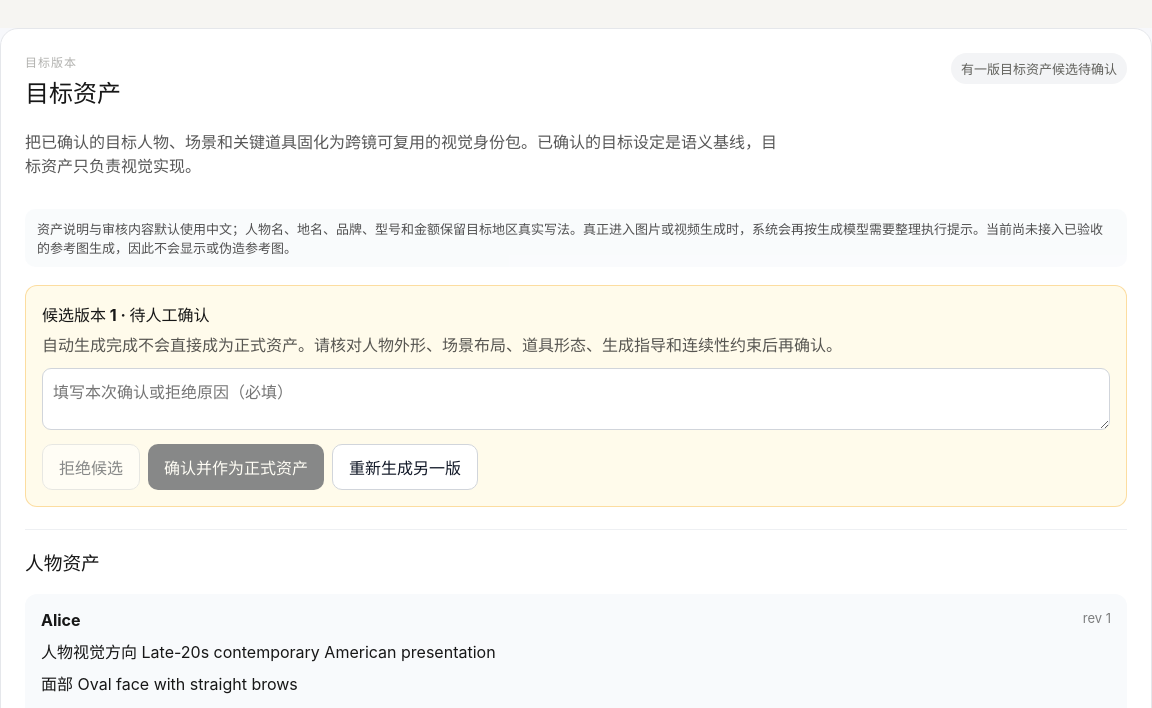
TargetAssetsWorkspace › accepts a candidate only after an explicit reason and uses optimistic review fields
The width and height of the screenshot is (1152, 708).
Type "Looks consistent across character, scene and prop identity" into the text box with placeholder "填写本次确认或拒绝原因（必填）" at (576, 399), box [42, 368, 1110, 430]
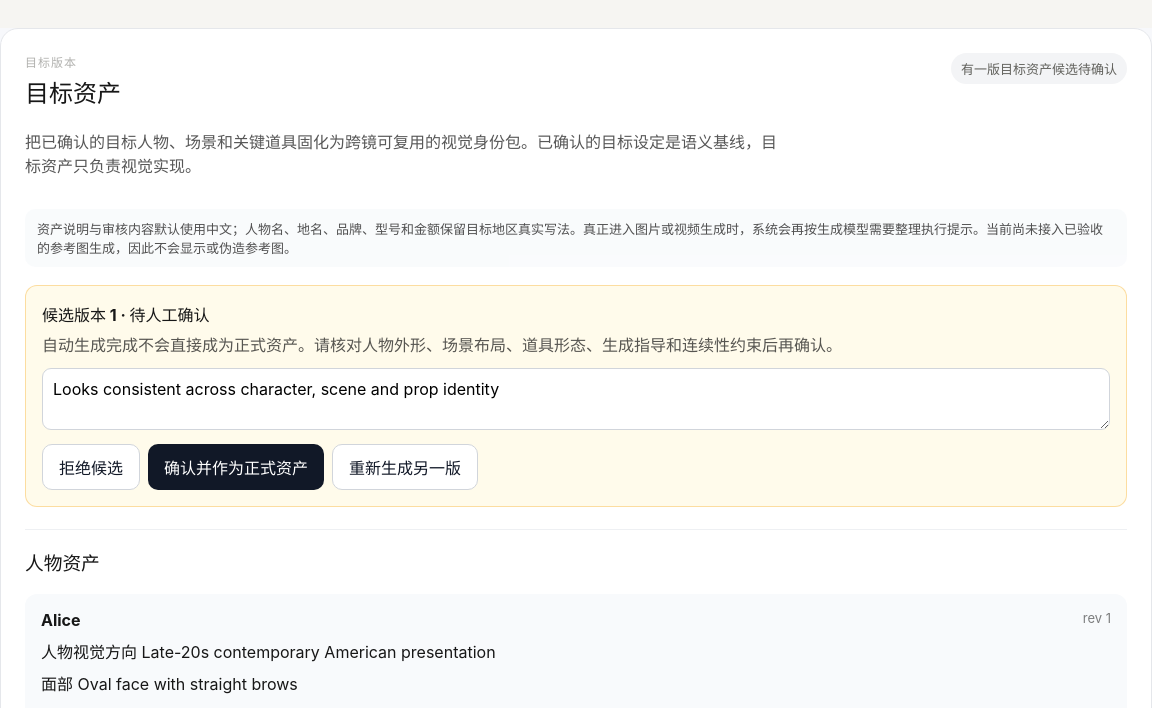
Click the button "确认并作为正式资产" at (236, 467), box [148, 444, 324, 490]
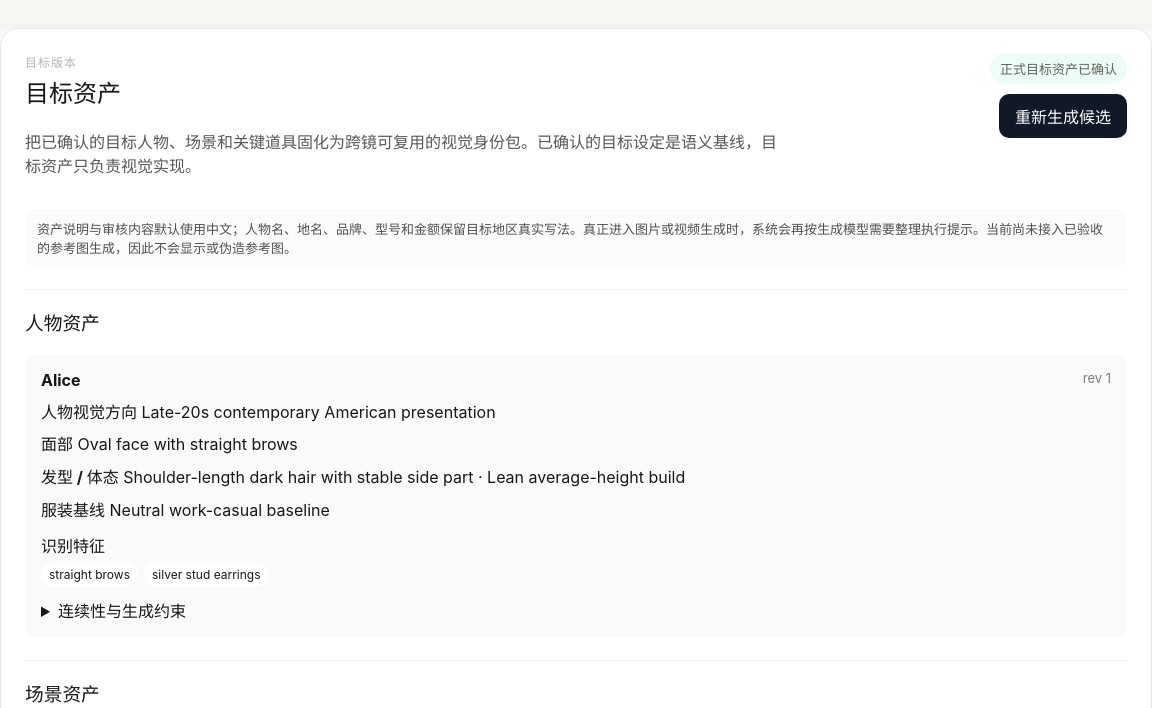
Expected: the text "正式目标资产已确认" is shown, [990, 53, 1127, 84]
